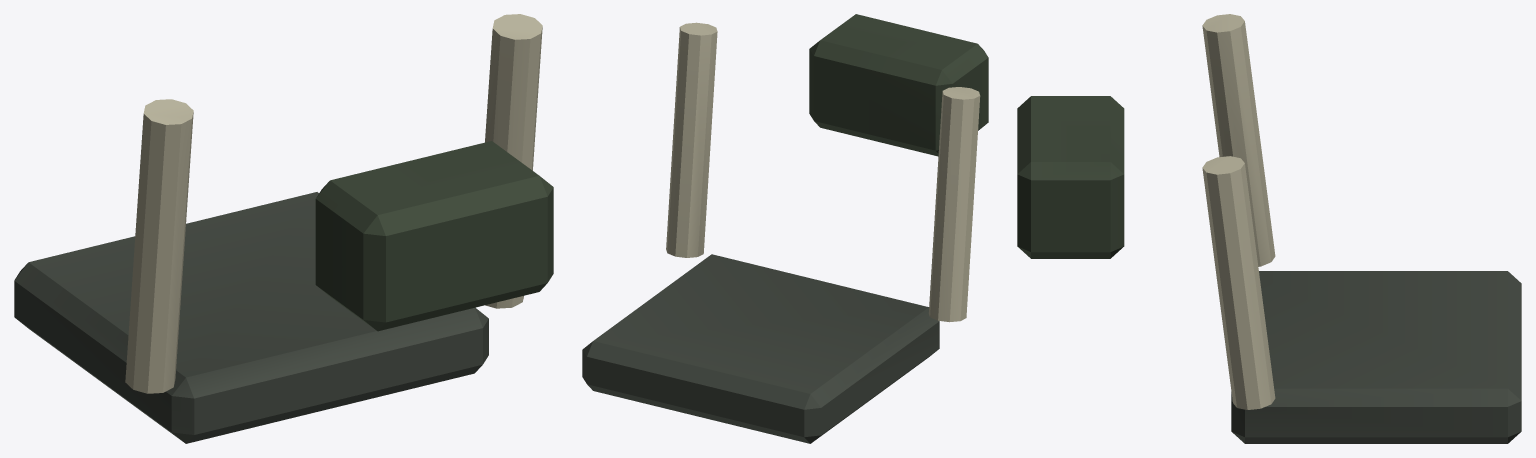
Rendered from arm_precision_right.glb.
The picture shows the model from 3 angles, left to right: view 1: azimuth 30°, elevation 25°; view 2: azimuth 150°, elevation 25°; view 3: azimuth 270°, elevation 25°; orthographic projection. The views are drawn at different scales.
Parts seen in each view (by area): view 1: Wrist_feedback_cuff.001, Servo_encoder.001, Fine_control_rail.002, Fine_control_rail.003; view 2: Wrist_feedback_cuff.001, Servo_encoder.001, Fine_control_rail.003, Fine_control_rail.002; view 3: Wrist_feedback_cuff.001, Servo_encoder.001, Fine_control_rail.003, Fine_control_rail.002.
Part boxes in pixels (x1,y1,x2,y2): Wrist_feedback_cuff.001: (14,192,488,443); Servo_encoder.001: (315,141,553,331); Fine_control_rail.002: (125,99,193,393); Fine_control_rail.003: (485,14,542,308); Wrist_feedback_cuff.001: (582,254,939,443); Servo_encoder.001: (809,14,988,156); Fine_control_rail.003: (666,22,717,257); Fine_control_rail.002: (928,87,980,322); Wrist_feedback_cuff.001: (1231,271,1521,443); Servo_encoder.001: (1017,96,1124,258); Fine_control_rail.003: (1202,156,1275,409); Fine_control_rail.002: (1202,14,1275,266).
Bounding box in the file's own units: 0.2466 × 0.2116 × 0.33.
